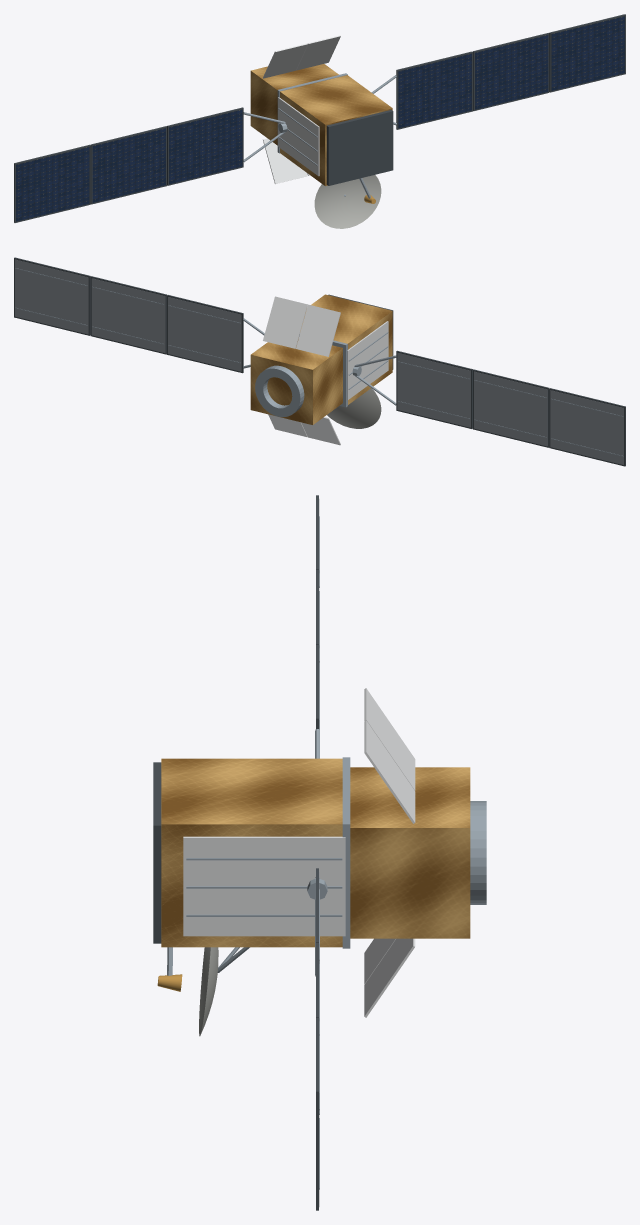
Rendered from ref-spacebus-100-15560.glb.
3 views of the same model, one above another, from view 1: azimuth 30°, elevation 25°; view 2: azimuth 150°, elevation 25°; view 3: azimuth 270°, elevation 25° (orthographic). The views are drawn at different scales.
Parts seen in each view (by area): view 1: Solar cell panel (×6), Earth-facing deck, Payload module, Solar panel frame (×6), Deployed radiator leaf (×3), Communications reflector, Service module, Radiator face; view 2: Rear array substrate (×6), Service module, Deployed radiator leaf (×4), Solar panel frame (×6), Payload module, Radiator face, Launch adapter ring, Communications reflector, Module interface; view 3: Service module, Payload module, Radiator face, Deployed radiator leaf (×3), Launch adapter ring, Earth-facing deck, Module interface, Communications reflector.
Part boxes in pixels (bbox=[...]): Solar cell panel (×6): bbox=[16, 16, 624, 221]; Earth-facing deck: bbox=[326, 110, 393, 185]; Payload module: bbox=[280, 75, 392, 185]; Solar panel frame (×6): bbox=[14, 14, 625, 222]; Deployed radiator leaf (×3): bbox=[263, 35, 340, 183]; Communications reflector: bbox=[314, 175, 381, 228]; Service module: bbox=[250, 64, 338, 145]; Radiator face: bbox=[278, 97, 319, 176]; Rear array substrate (×6): bbox=[15, 259, 623, 464]; Service module: bbox=[250, 339, 342, 424]; Deployed radiator leaf (×4): bbox=[263, 296, 340, 445]; Solar panel frame (×6): bbox=[14, 257, 625, 466]; Payload module: bbox=[300, 294, 392, 404]; Radiator face: bbox=[347, 321, 388, 399]; Launch adapter ring: bbox=[255, 365, 304, 417]; Communications reflector: bbox=[327, 388, 381, 428]; Module interface: bbox=[299, 334, 347, 407]; Service module: bbox=[350, 767, 470, 938]; Payload module: bbox=[161, 758, 342, 947]; Radiator face: bbox=[183, 836, 345, 936]; Deployed radiator leaf (×3): bbox=[364, 688, 415, 1017]; Launch adapter ring: bbox=[470, 801, 486, 904]; Earth-facing deck: bbox=[153, 762, 161, 943]; Module interface: bbox=[342, 757, 350, 948]; Communications reflector: bbox=[199, 947, 218, 1036].
Size of the model in its own units: 15.38 by 3.7 by 3.63.
Materials: 8 (2 with a texture image).
